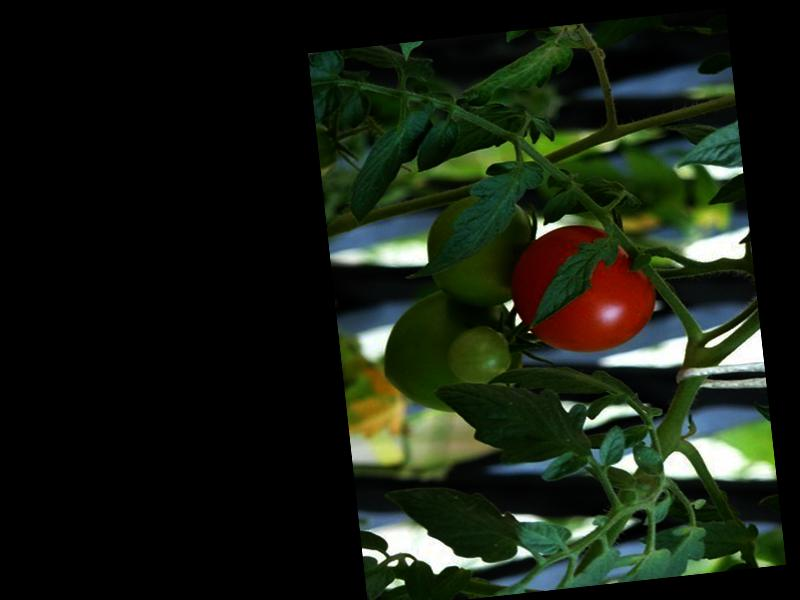Tomato: (507, 217, 661, 360)
